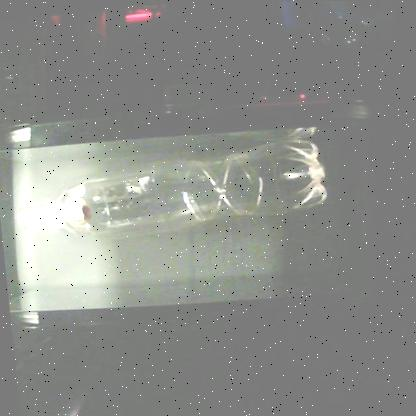Plastic Bottle: (16, 127, 328, 235)
